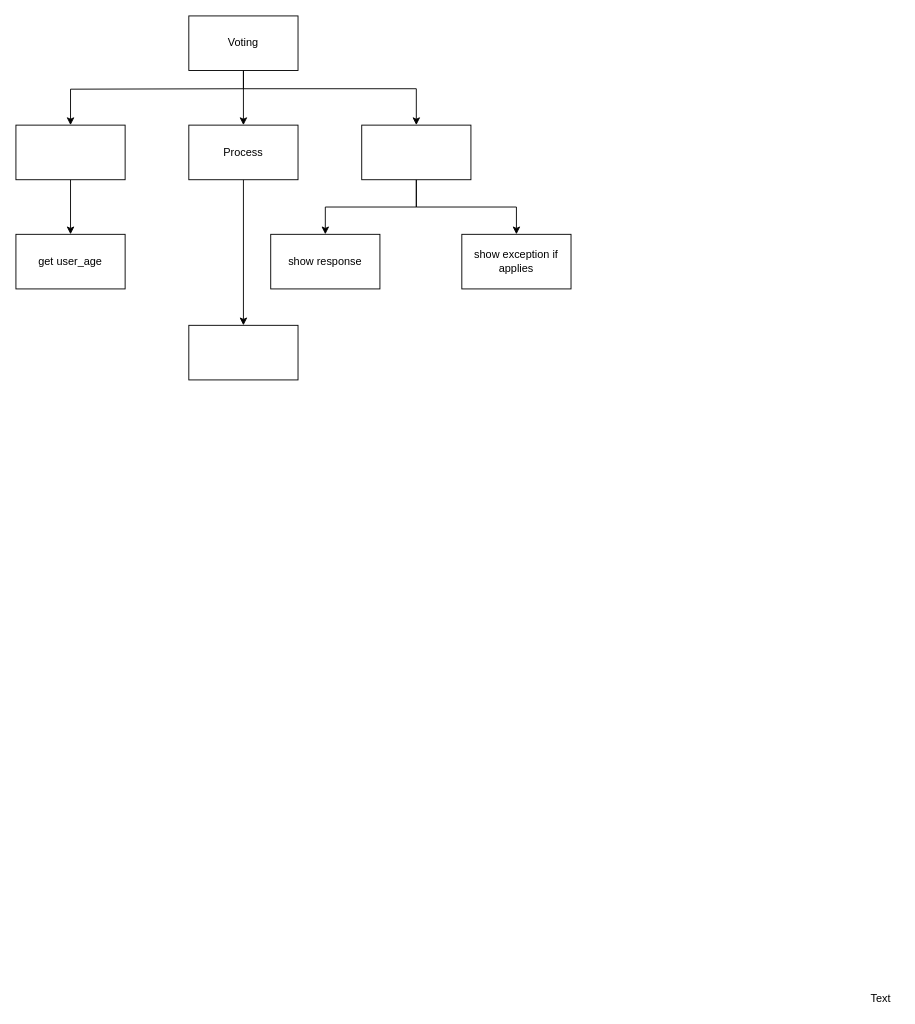
Some shapes in this 915 by 1024 pixel diagram are drawn without their labels. Here are the shapes that lost their labels. From the top down, the centre of each, then its label:
point 70,152: Input
point 416,152: Output
point 243,352: check if age_number is >= 18
